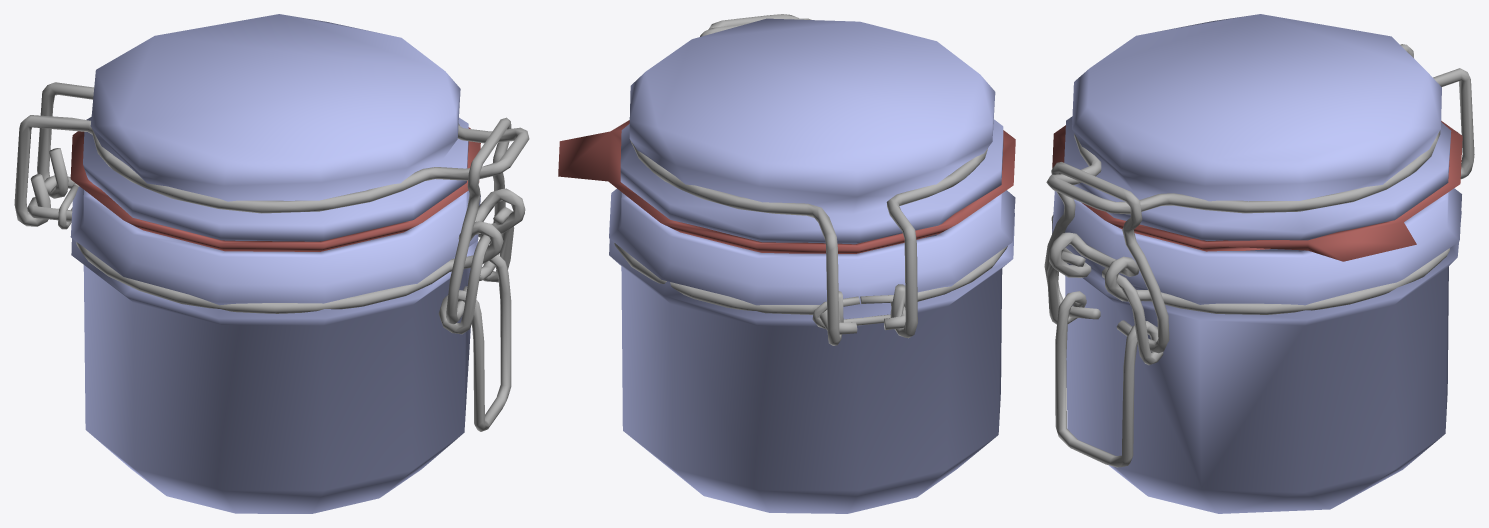
File: finger.fbx
3 renders of one model, left to right at view 1: azimuth 30°, elevation 25°; view 2: azimuth 150°, elevation 25°; view 3: azimuth 270°, elevation 25°, orthographic.
Parts seen in each view (by area): view 1: kitchen.preserving.jar.large, kitchen.preserving.jar.large.wire; view 2: kitchen.preserving.jar.large, kitchen.preserving.jar.large.wire; view 3: kitchen.preserving.jar.large, kitchen.preserving.jar.large.wire.
Boxes of the visible parts, x1,y1,x2,y2 form: kitchen.preserving.jar.large: (70, 14, 480, 513); kitchen.preserving.jar.large.wire: (14, 82, 529, 431); kitchen.preserving.jar.large: (558, 18, 1015, 513); kitchen.preserving.jar.large.wire: (614, 14, 1007, 345); kitchen.preserving.jar.large: (1052, 14, 1462, 513); kitchen.preserving.jar.large.wire: (1044, 44, 1474, 467).
Bounding box in the file's own units: 294 × 259 × 278.
